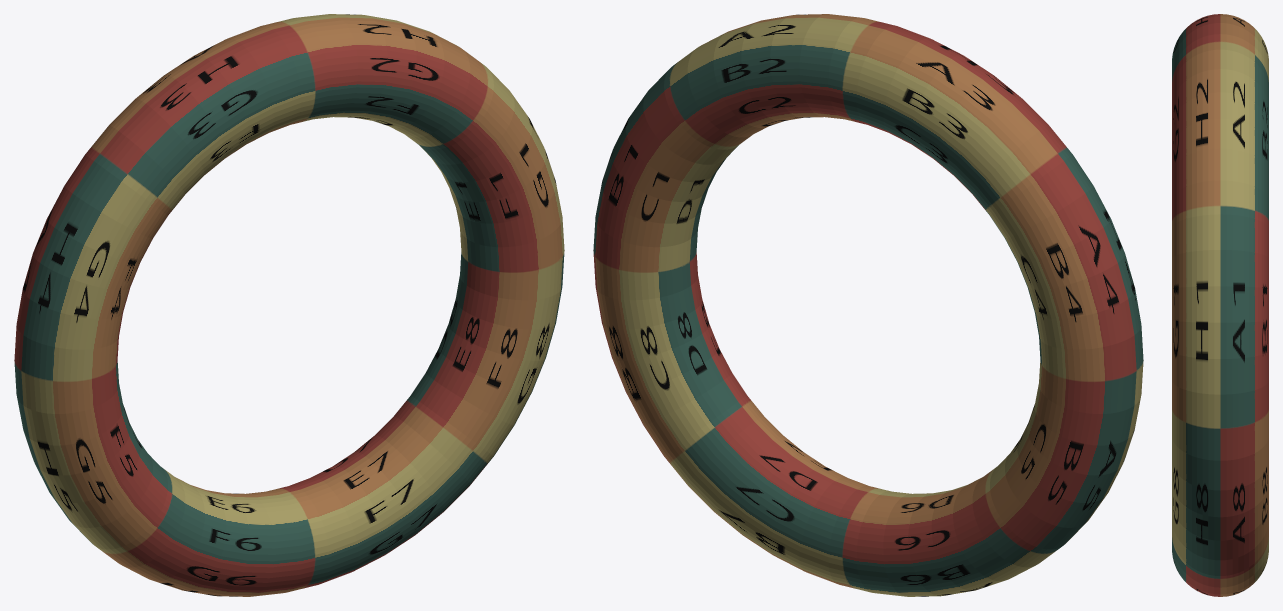
File: texture_torus_R28_r14.glb
The picture shows the model from 3 angles, left to right: view 1: azimuth 30°, elevation 25°; view 2: azimuth 150°, elevation 25°; view 3: azimuth 270°, elevation 25°; orthographic projection. The views are drawn at different scales.
Visible parts, largest first — view 1: world; view 2: world; view 3: world.
Boxes of the visible parts, left/top/right/bottom form: world: left=14, top=14, right=564, bottom=596; world: left=593, top=14, right=1143, bottom=596; world: left=1172, top=14, right=1268, bottom=596.
Bounding box in the file's own units: 34.4 × 34.33 × 5.72.
Materials: 1 (1 with a texture image).
